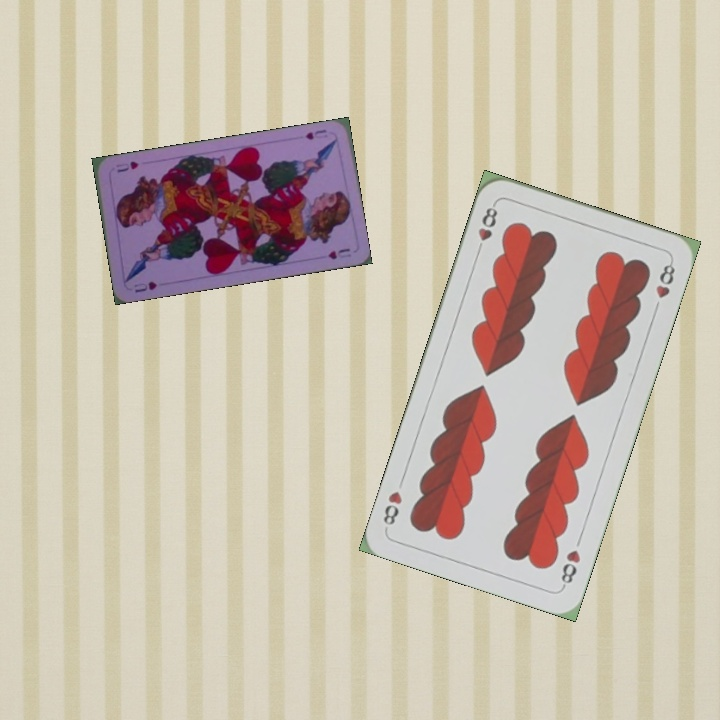H8: (473, 199, 501, 257), (556, 545, 583, 590)
HU: (130, 277, 160, 295), (301, 125, 329, 142)
